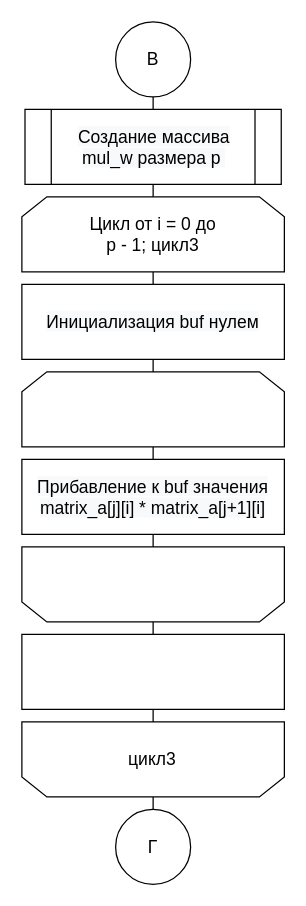
Image size: 306x906. Some labels were removed from this diagram. Here are the shapes that lost their labels. From the top down, the centre of each, then its label:
[152,409]: Цикл от j = 0 до m с шагом 2; цикл4
[152,584]: цикл4
[152,671]: Присваивание mul_w[i] значение buf
